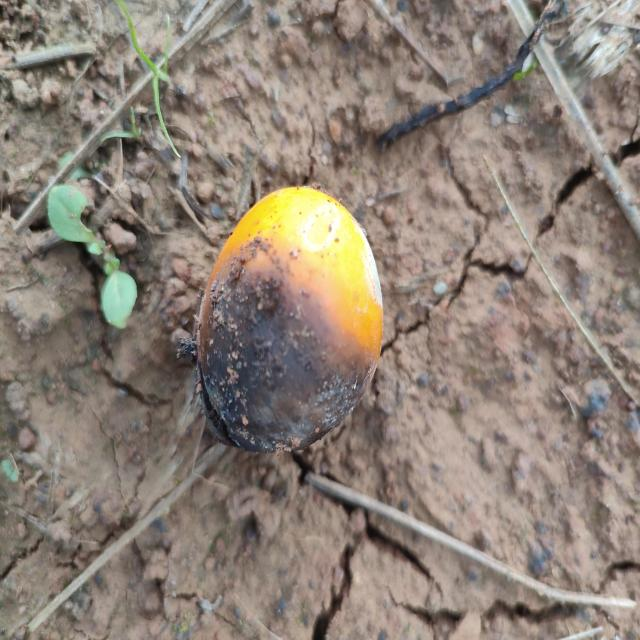damaged: (196, 188, 385, 456)
